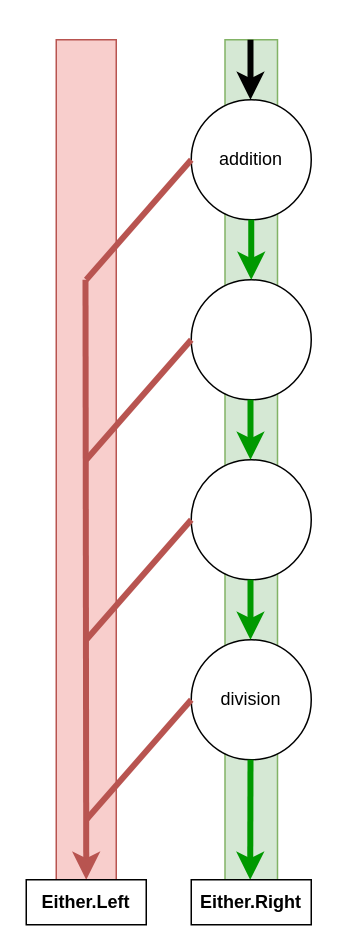
Some shapes in this 338 by 951 pixel diagram are drawn without their labels. The centre of each missing label's shape, as x and y in pixels:
multiplication: (x=250, y=519)
subtraction: (x=250, y=339)
